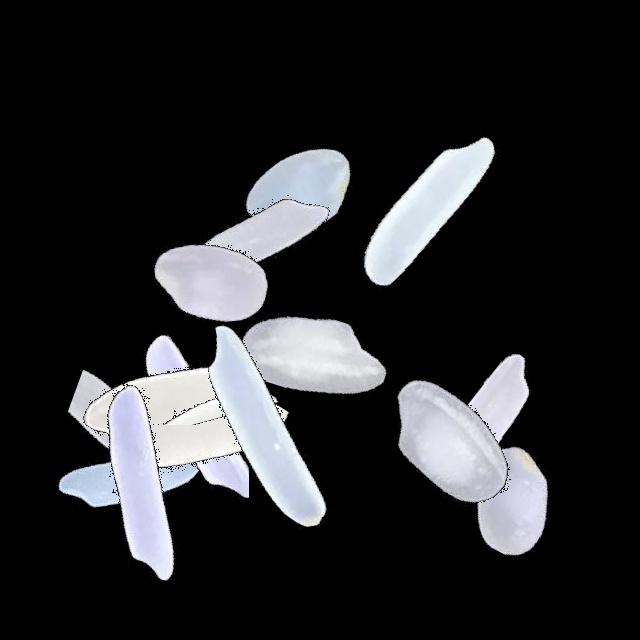Broken: (76, 313, 249, 563), (44, 353, 294, 524), (66, 302, 220, 552), (60, 324, 310, 425)
Full: (388, 378, 638, 628), (188, 231, 438, 481), (9, 346, 259, 596), (175, 66, 425, 316), (137, 116, 387, 366), (360, 293, 610, 543), (87, 156, 337, 406), (138, 300, 388, 550), (320, 315, 570, 565), (304, 82, 554, 332), (17, 355, 267, 605)
